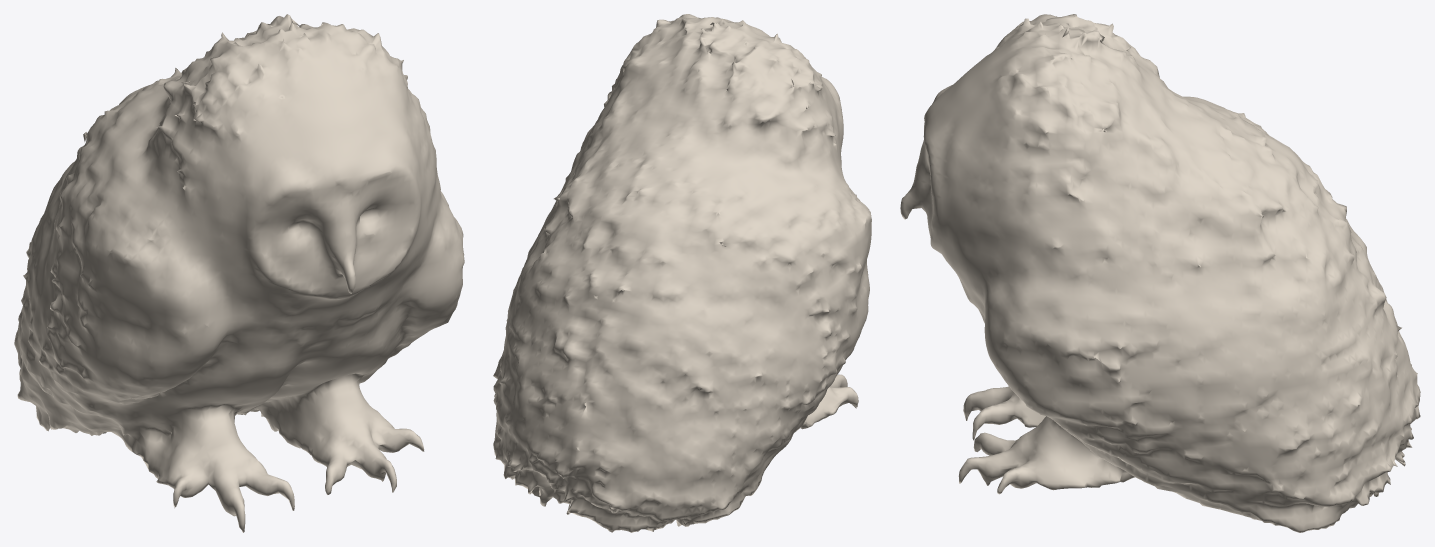
The model's file is run100_voxel_55k_ART_UNAPPROVED.glb.
3 renders of one model, left to right at view 1: azimuth 30°, elevation 25°; view 2: azimuth 150°, elevation 25°; view 3: azimuth 270°, elevation 25°, orthographic. The views are drawn at different scales.
Parts seen in each view (by area): view 1: run100_voxel_55k_REAL_NEURAL_SOURCE; view 2: run100_voxel_55k_REAL_NEURAL_SOURCE; view 3: run100_voxel_55k_REAL_NEURAL_SOURCE.
Part boxes in pixels (x1,y1,x2,y2): run100_voxel_55k_REAL_NEURAL_SOURCE: (14, 14, 464, 532); run100_voxel_55k_REAL_NEURAL_SOURCE: (493, 14, 871, 532); run100_voxel_55k_REAL_NEURAL_SOURCE: (900, 14, 1420, 532).
Bounding box in the file's own units: 1.5 × 1.88 × 1.94.
